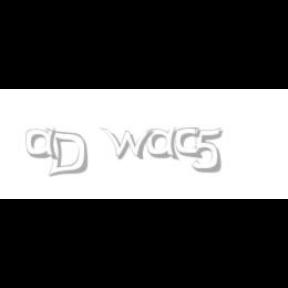5: (192, 128, 222, 174)
D: (44, 128, 88, 178)
a: (146, 128, 183, 160), (26, 128, 62, 160)
c: (174, 128, 204, 160)
w: (101, 128, 160, 160)
